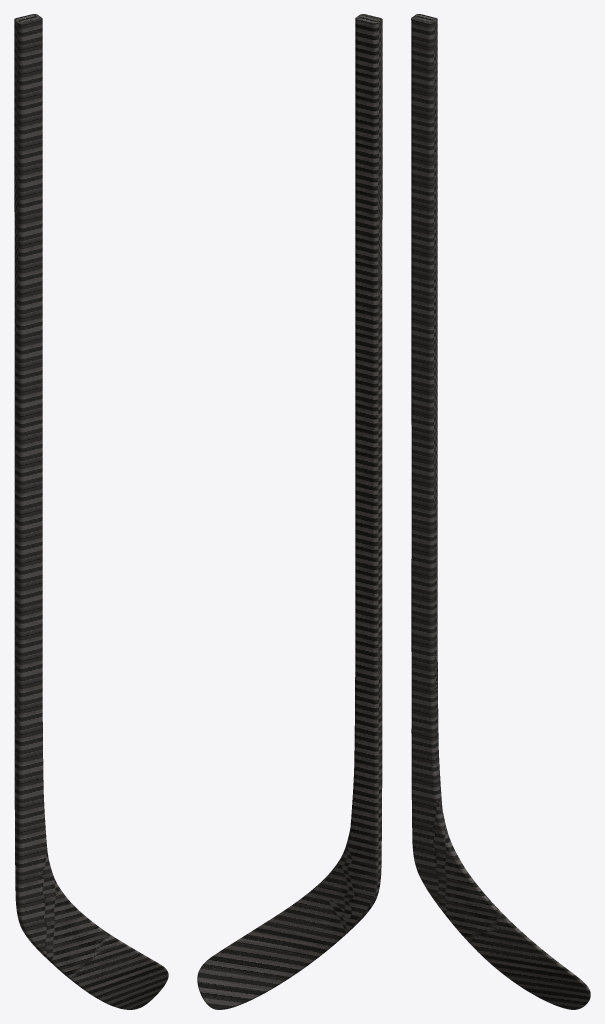
The picture shows the model from 3 angles, left to right: view 1: azimuth 30°, elevation 25°; view 2: azimuth 150°, elevation 25°; view 3: azimuth 330°, elevation 25°; orthographic projection. The views are drawn at different scales.
Visible parts, largest first — view 1: geometry_0; view 2: geometry_0; view 3: geometry_0.
Part boxes in pixels (box(x1,y1,x2,y2)): geometry_0: box(14, 14, 168, 1009); geometry_0: box(197, 14, 382, 1009); geometry_0: box(411, 14, 590, 1009).
Size of the model in its own units: 218 by 1272 by 62.36.
1 material, 1 textured.
